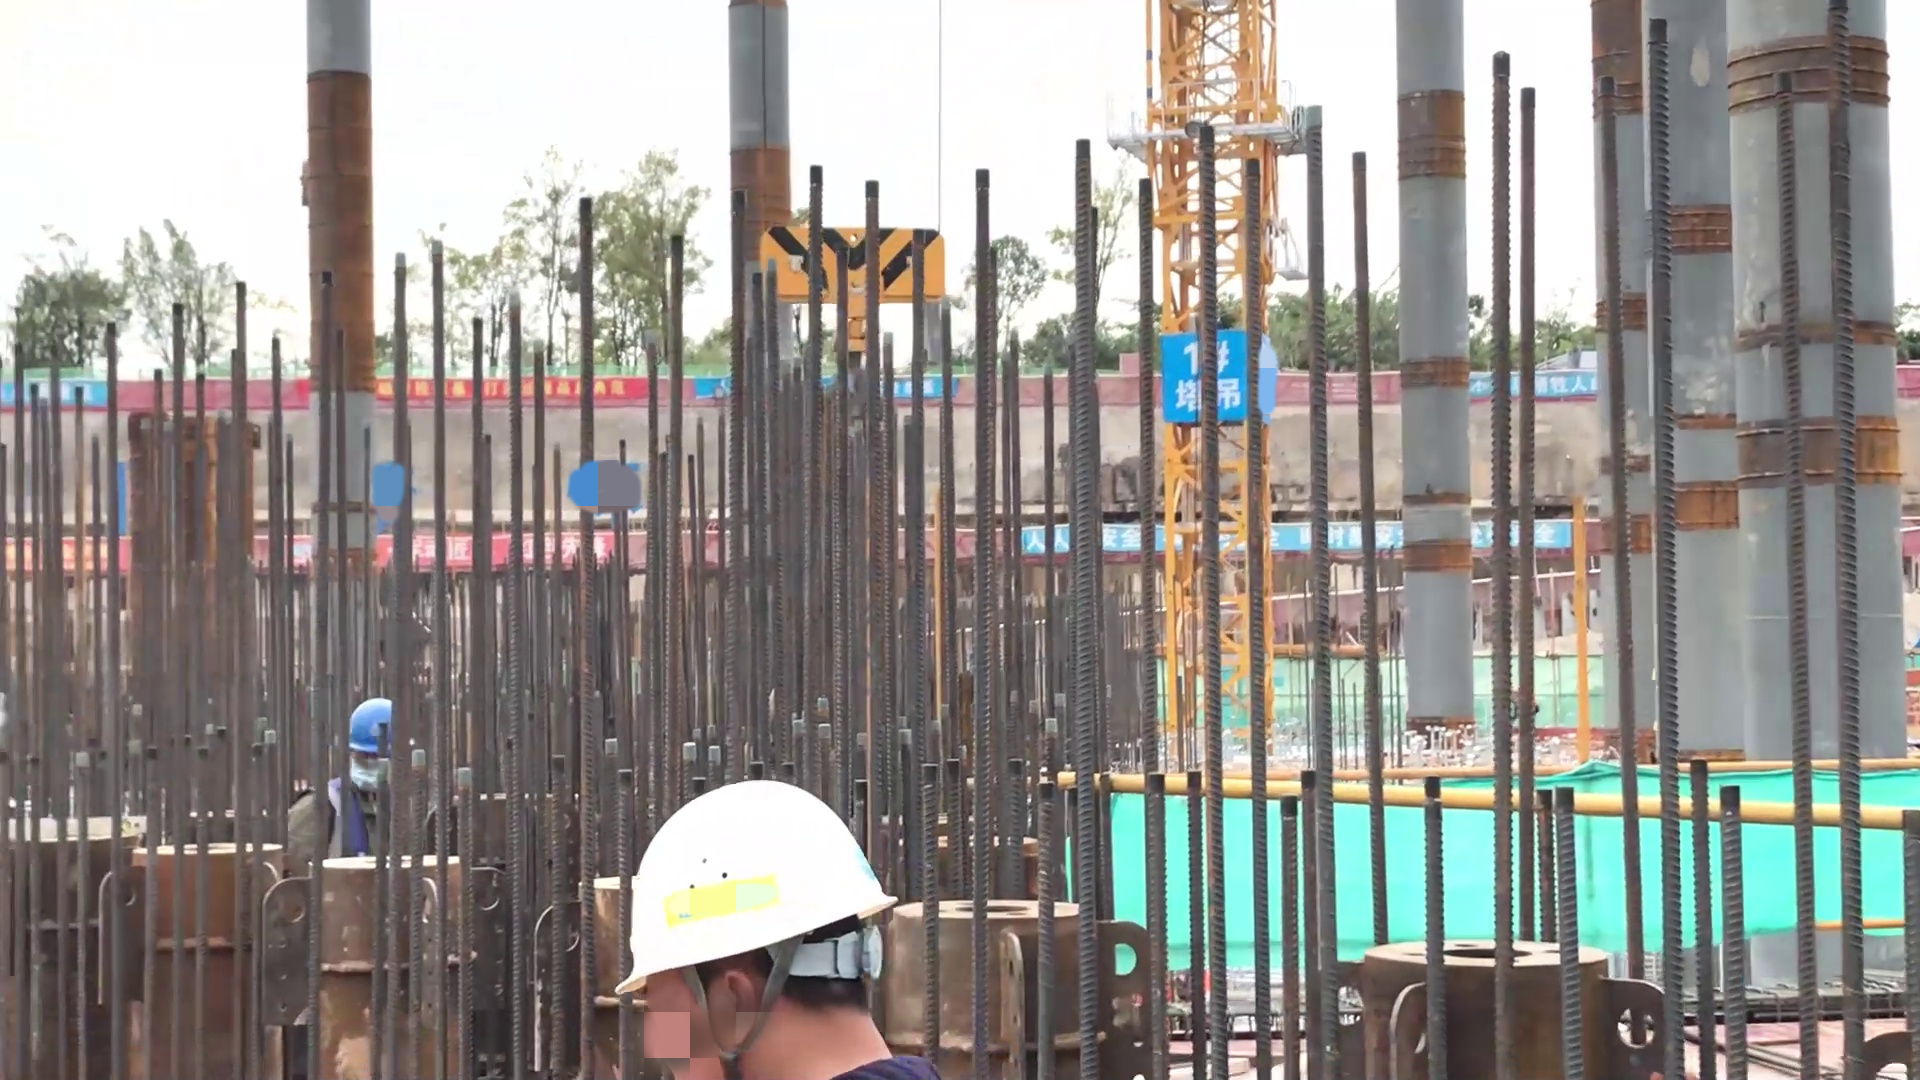fence: (3, 508, 1591, 555), (1, 361, 1599, 407)
helmet: (620, 780, 909, 983), (349, 699, 395, 756)
hook: (747, 207, 951, 379)
person: (603, 779, 935, 1080), (285, 695, 399, 866)
slogan: (1022, 518, 1574, 554), (694, 363, 953, 415), (374, 379, 636, 408), (379, 541, 606, 570), (1457, 374, 1605, 408)
vest: (307, 773, 411, 855)
